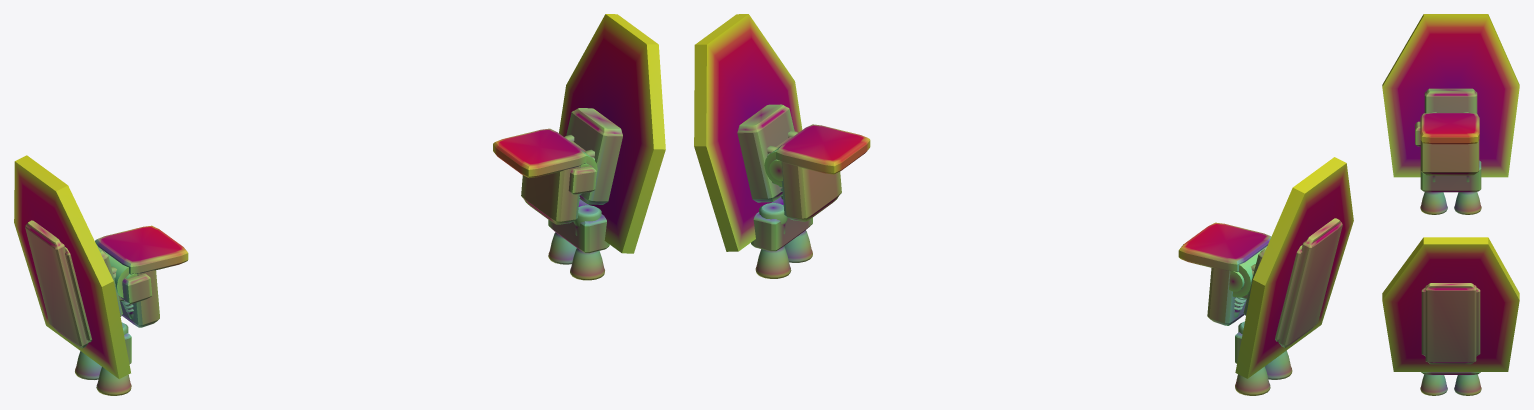
Rendered from llm_gen_shoulder_pods_014_3a3c14.glb.
The picture shows the model from 3 angles, left to right: view 1: azimuth 30°, elevation 25°; view 2: azimuth 150°, elevation 25°; view 3: azimuth 270°, elevation 25°; orthographic projection. The views are drawn at different scales.
Visible parts, largest first — view 1: binder_shield_wing_2_titanium_silver_r, binder_shield_wing_2_titanium_silver_l, adapter_shoulder_yoke_r, adapter_shoulder_yoke_l, binder_trim_blue_4_wing_white_l, adapter_sub_wing_clevis_dark_1_adapter_dark_r, adapter_sub_exhaust_pod_dark_5_adapter_dark_r, binder_vernier_b_7_vernier_bell_vernier_r, adapter_sh_front_latch_dark_8_adapter_dark_l, binder_vernier_b_7_vernier_bell_vernier_l, adapter_sh_front_latch_dark_8_adapter_dark_r, binder_vernier_a_6_vernier_bell_vernier_r (+1 smaller); view 2: binder_shield_wing_2_titanium_silver_r, binder_shield_wing_2_titanium_silver_l, adapter_shoulder_yoke_r, adapter_shoulder_yoke_l, binder_trim_blue_4_wing_white_l, adapter_sub_wing_clevis_dark_1_adapter_dark_r, adapter_sub_exhaust_pod_dark_5_adapter_dark_r, binder_vernier_a_6_vernier_bell_vernier_r, binder_vernier_a_6_vernier_bell_vernier_l, binder_vernier_b_7_vernier_bell_vernier_r, adapter_sub_trim_clamp_dark_3_adapter_dark_l; view 3: binder_shield_wing_2_titanium_silver_l, binder_shield_wing_2_titanium_silver_r, binder_trim_blue_4_wing_white_r, adapter_shoulder_yoke_l, adapter_sub_wing_clevis_dark_1_adapter_dark_l, adapter_sub_exhaust_pod_dark_5_adapter_dark_l, adapter_sub_trim_clamp_dark_3_adapter_dark_r, binder_vernier_a_6_vernier_bell_vernier_l, binder_vernier_b_7_vernier_bell_vernier_l, binder_vernier_a_6_vernier_bell_vernier_r, binder_vernier_b_7_vernier_bell_vernier_r, adapter_sub_exhaust_pod_dark_5_adapter_dark_r (+1 smaller).
Boxes of the visible parts, x1,y1,x2,y2 form: binder_shield_wing_2_titanium_silver_r: (559, 14, 665, 253); binder_shield_wing_2_titanium_silver_l: (14, 155, 130, 378); adapter_shoulder_yoke_r: (493, 128, 597, 224); adapter_shoulder_yoke_l: (95, 225, 188, 327); binder_trim_blue_4_wing_white_l: (25, 220, 88, 348); adapter_sub_wing_clevis_dark_1_adapter_dark_r: (566, 108, 622, 204); adapter_sub_exhaust_pod_dark_5_adapter_dark_r: (548, 199, 609, 253); binder_vernier_b_7_vernier_bell_vernier_r: (570, 248, 604, 280); adapter_sh_front_latch_dark_8_adapter_dark_l: (121, 273, 152, 303); binder_vernier_b_7_vernier_bell_vernier_l: (96, 367, 131, 395); adapter_sh_front_latch_dark_8_adapter_dark_r: (568, 165, 596, 194); binder_vernier_a_6_vernier_bell_vernier_r: (548, 232, 576, 264); binder_shield_wing_2_titanium_silver_r: (694, 14, 802, 251); binder_shield_wing_2_titanium_silver_l: (1235, 157, 1353, 378); adapter_shoulder_yoke_r: (764, 124, 870, 221); adapter_shoulder_yoke_l: (1178, 222, 1271, 325); binder_trim_blue_4_wing_white_l: (1278, 218, 1342, 347); adapter_sub_wing_clevis_dark_1_adapter_dark_r: (737, 104, 794, 202); adapter_sub_exhaust_pod_dark_5_adapter_dark_r: (751, 197, 812, 251); binder_vernier_a_6_vernier_bell_vernier_r: (755, 246, 791, 278); binder_vernier_a_6_vernier_bell_vernier_l: (1235, 366, 1270, 395); binder_vernier_b_7_vernier_bell_vernier_r: (784, 230, 812, 262); adapter_sub_trim_clamp_dark_3_adapter_dark_l: (1275, 245, 1302, 341); binder_shield_wing_2_titanium_silver_l: (1382, 14, 1519, 177); binder_shield_wing_2_titanium_silver_r: (1382, 237, 1519, 371); binder_trim_blue_4_wing_white_r: (1425, 283, 1476, 364); adapter_shoulder_yoke_l: (1420, 113, 1479, 175); adapter_sub_wing_clevis_dark_1_adapter_dark_l: (1424, 88, 1477, 113); adapter_sub_exhaust_pod_dark_5_adapter_dark_l: (1420, 160, 1481, 192); adapter_sub_trim_clamp_dark_3_adapter_dark_r: (1421, 287, 1480, 356); binder_vernier_a_6_vernier_bell_vernier_l: (1454, 192, 1481, 214); binder_vernier_b_7_vernier_bell_vernier_l: (1420, 192, 1447, 214); binder_vernier_a_6_vernier_bell_vernier_r: (1454, 374, 1481, 395); binder_vernier_b_7_vernier_bell_vernier_r: (1420, 374, 1447, 395); adapter_sub_exhaust_pod_dark_5_adapter_dark_r: (1421, 372, 1480, 374).
Size of the model in its own units: 119 by 41.83 by 30.08.
